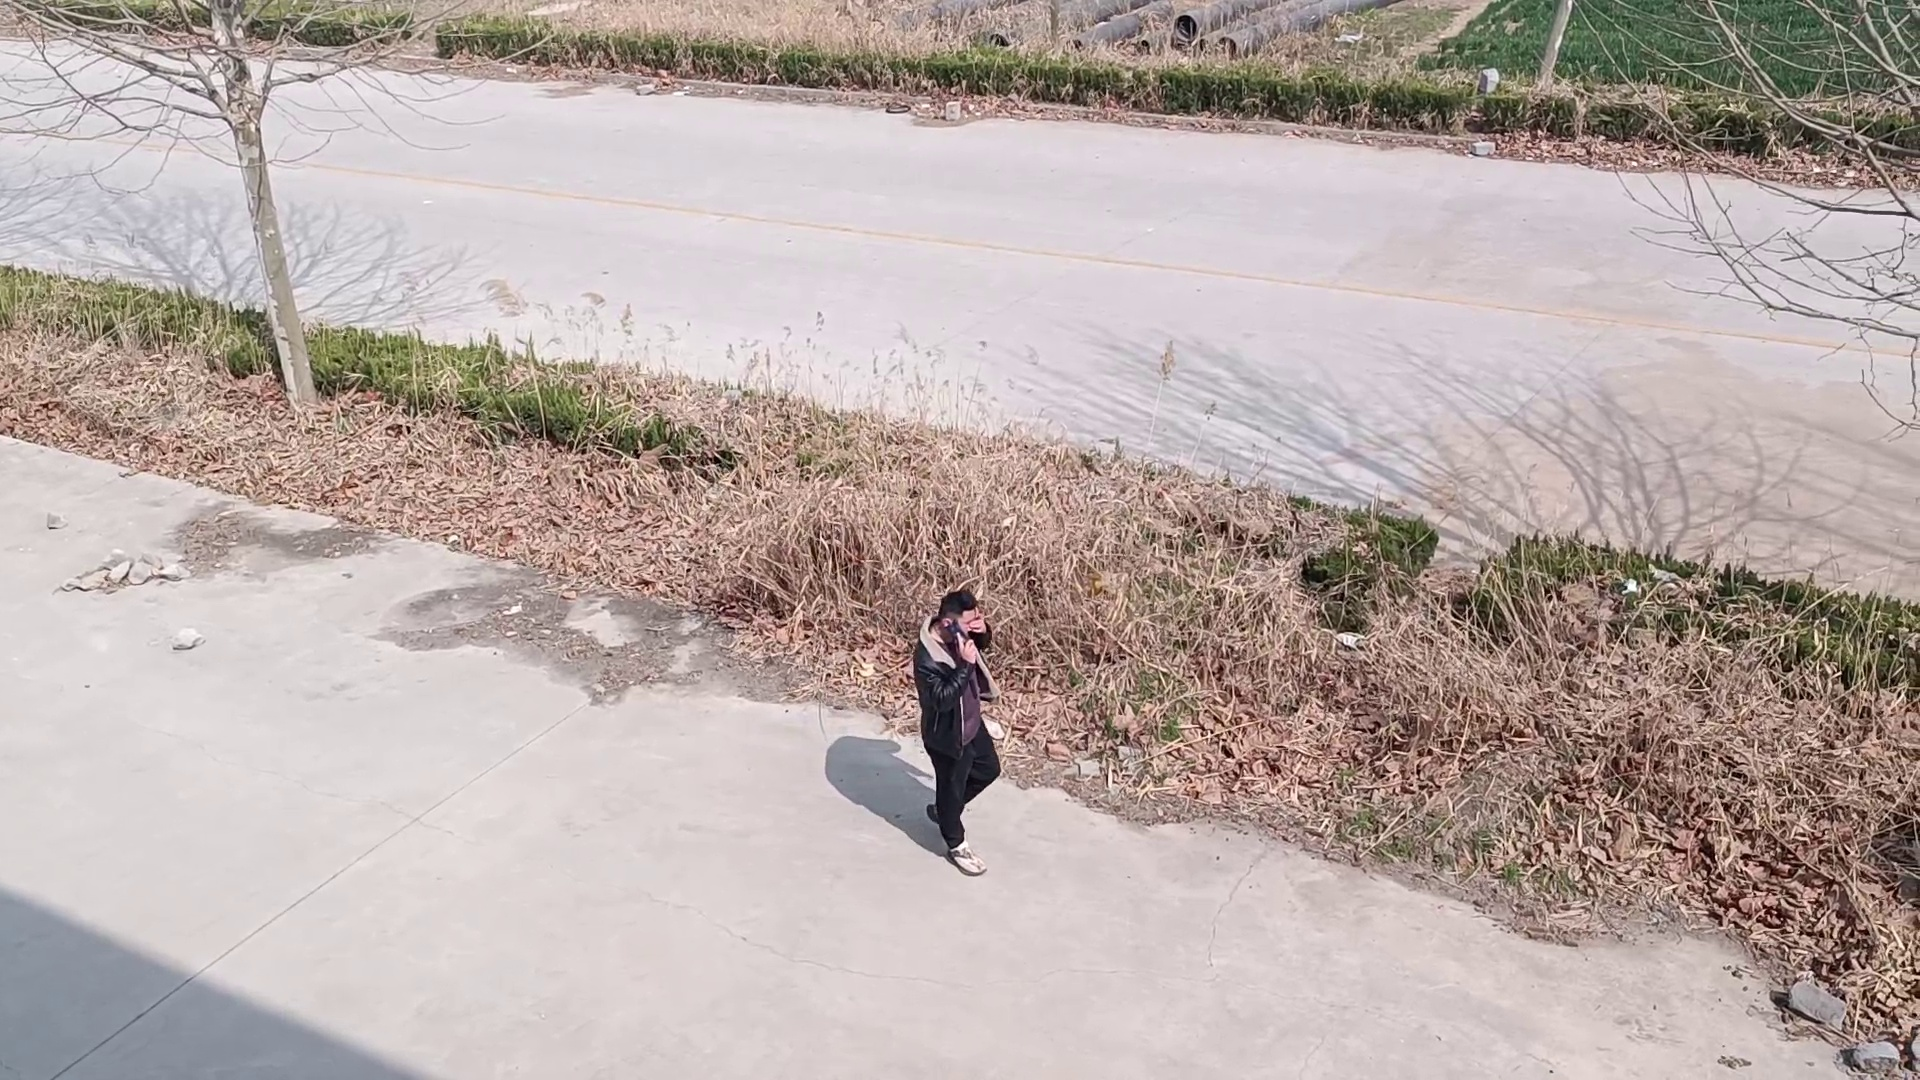phone: (920, 591, 975, 659)
